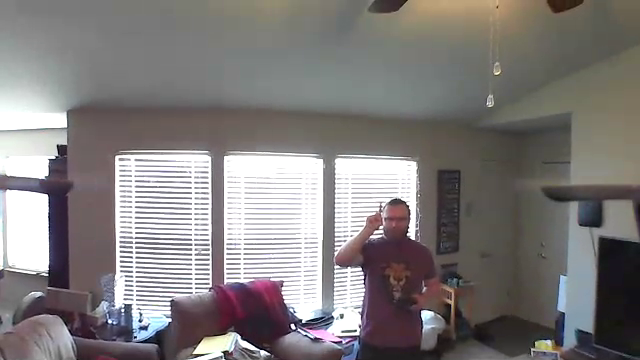up: (362, 200, 385, 237)
